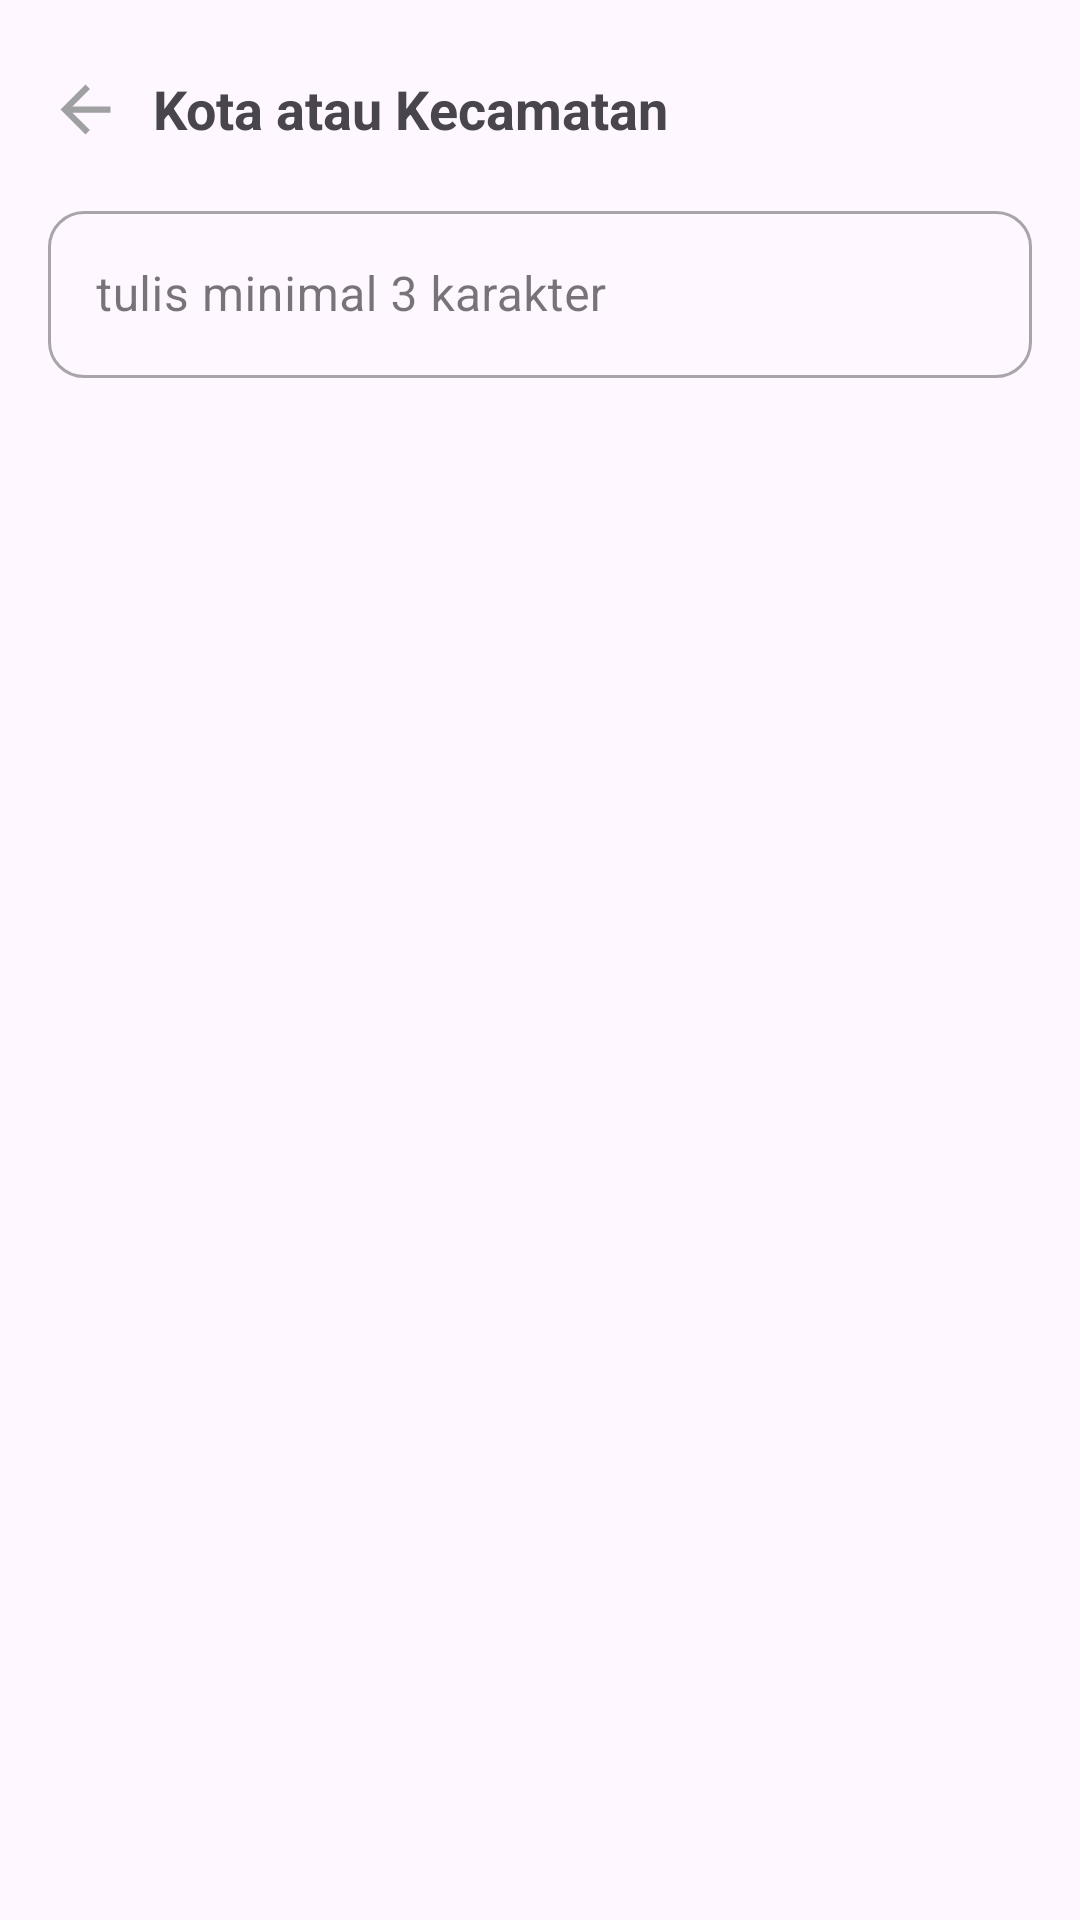

Named icons in this screenshot (1080 x 1920) and their bounding boxes, (x1, y1, x2, y2):
back: (61, 85, 111, 134)
